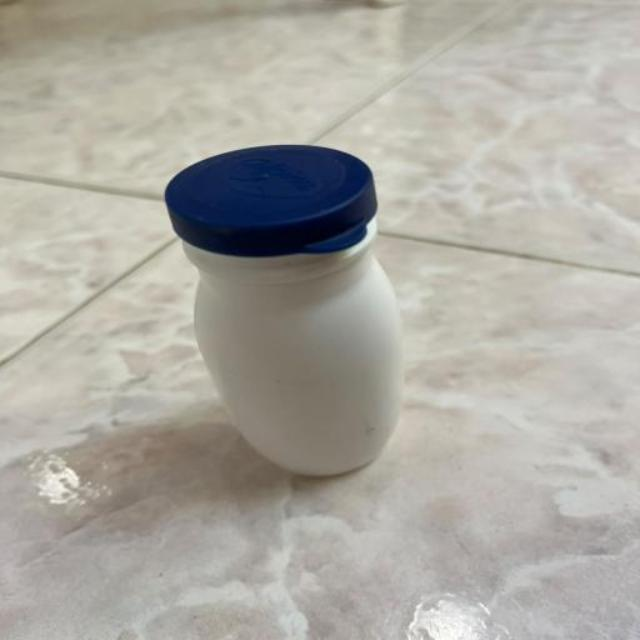HDPE: (151, 145, 490, 511)
